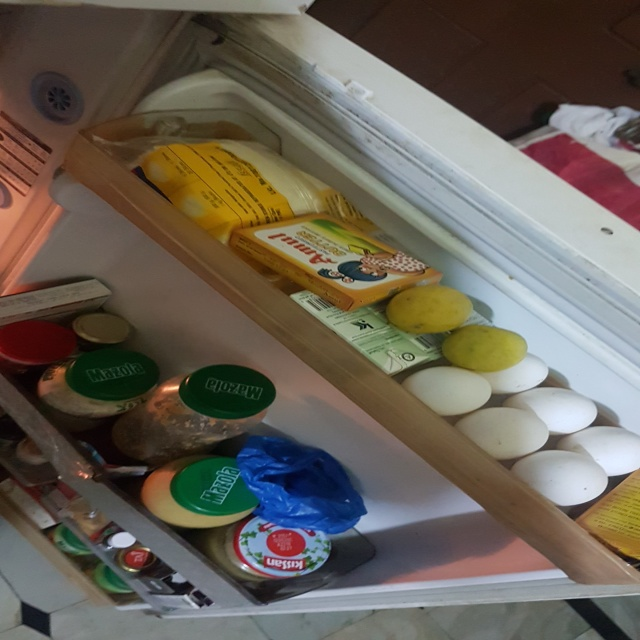butter: (244, 203, 436, 304)
eggs: (498, 447, 615, 521), (455, 402, 554, 471), (398, 363, 489, 423), (509, 382, 603, 437), (559, 425, 640, 474), (483, 346, 554, 401)
lemon: (444, 318, 526, 379), (387, 281, 468, 342)
